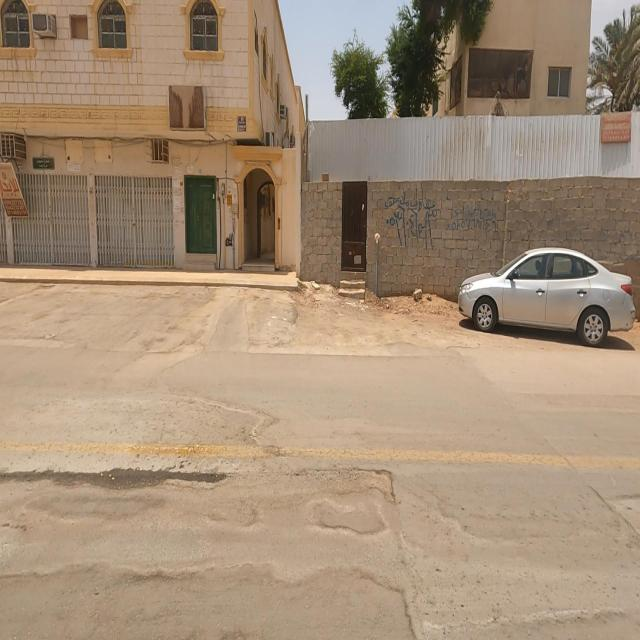Graffiti: (386, 191, 437, 251), (448, 203, 499, 237)
